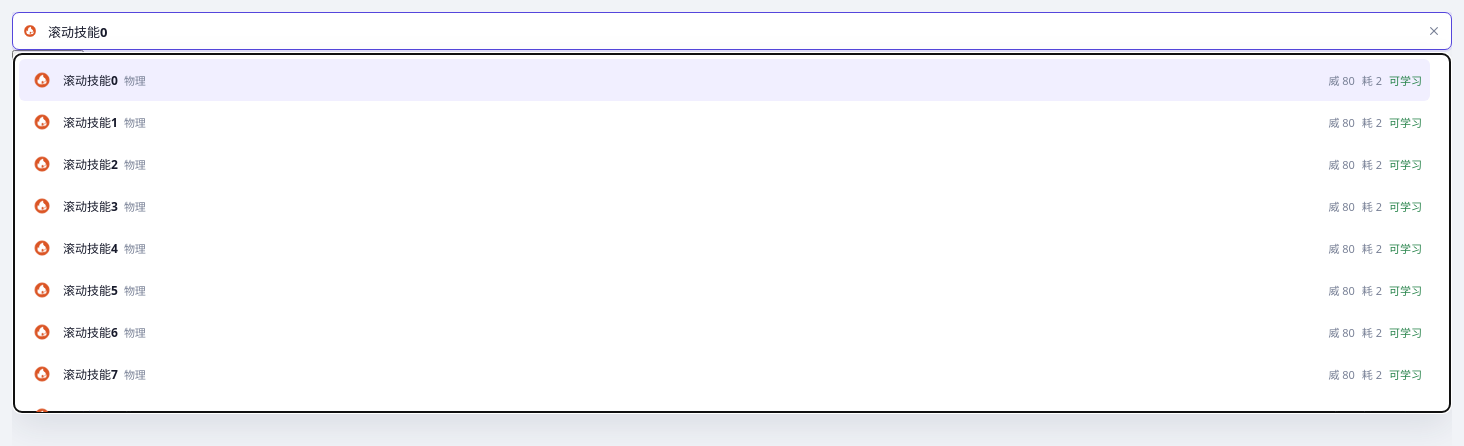
Test case: a mouse-selected option after scrollbar focus commits exactly once
The width and height of the screenshot is (1464, 446).
Click the option "滚动技能2 物理 威 80 耗 2 可学习": [90, 164] box 32,154 -> 1422,174
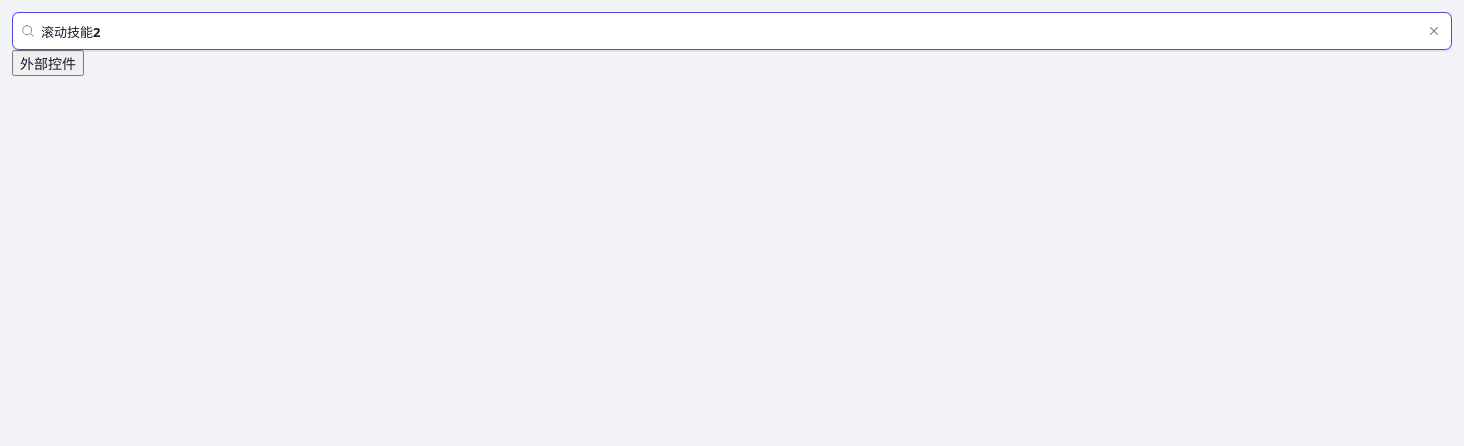
Expected: the list is gone
